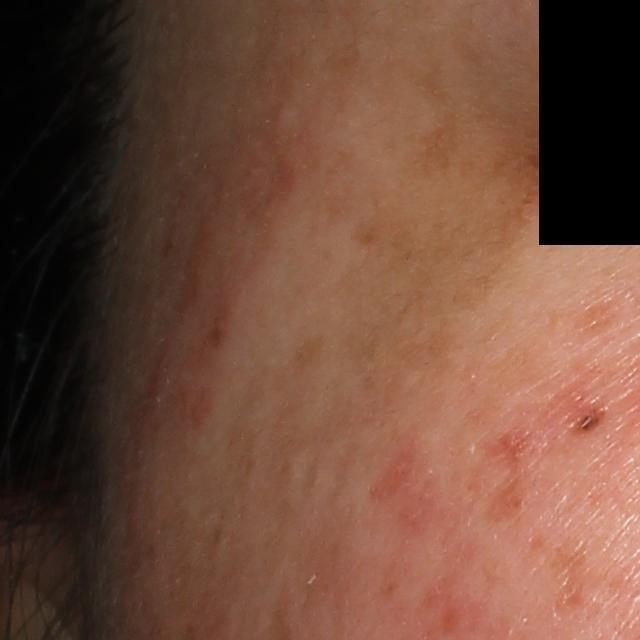melasma: (340, 206, 544, 325), (406, 68, 470, 186), (479, 478, 532, 532), (289, 334, 331, 369)
nevus: (569, 403, 614, 432)
